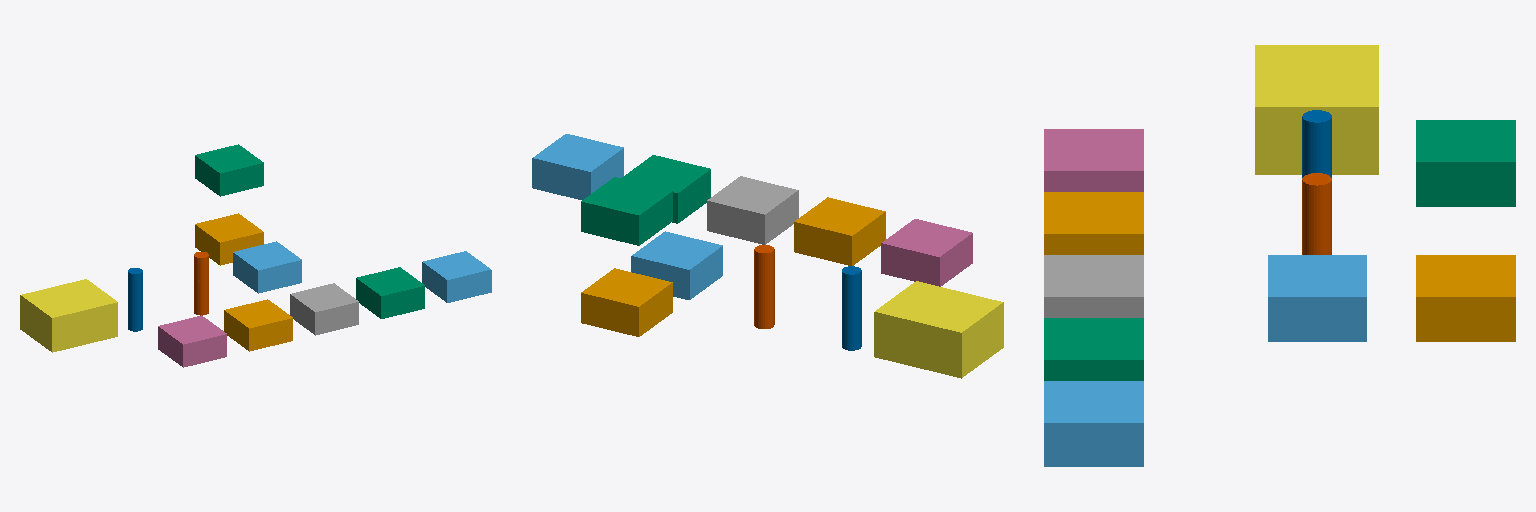
The robot description file, URDF, robot "speed_change_mechanism":
<?xml version="1.0" ?>
<robot name="speed_change_mechanism">
  <link name="first_mounting_means">
    <visual>
      <geometry>
        <box size="0.04 0.04 0.02"/>
      </geometry>
    </visual>
  </link>
  <link name="first_planet_pinion">
    <visual>
      <geometry>
        <box size="0.04 0.04 0.02"/>
      </geometry>
    </visual>
  </link>
  <link name="first_ring_gear">
    <visual>
      <geometry>
        <box size="0.04 0.04 0.02"/>
      </geometry>
    </visual>
  </link>
  <link name="housing">
    <visual>
      <geometry>
        <box size="0.06 0.05 0.03"/>
      </geometry>
    </visual>
  </link>
  <link name="input_shaft">
    <visual>
      <geometry>
        <cylinder radius="0.006" length="0.05"/>
      </geometry>
    </visual>
  </link>
  <link name="output_shaft">
    <visual>
      <geometry>
        <cylinder radius="0.006" length="0.05"/>
      </geometry>
    </visual>
  </link>
  <link name="planet_carrier_means">
    <visual>
      <geometry>
        <box size="0.04 0.04 0.02"/>
      </geometry>
    </visual>
  </link>
  <link name="second_mounting_means">
    <visual>
      <geometry>
        <box size="0.04 0.04 0.02"/>
      </geometry>
    </visual>
  </link>
  <link name="second_planet_pinion">
    <visual>
      <geometry>
        <box size="0.04 0.04 0.02"/>
      </geometry>
    </visual>
  </link>
  <link name="second_ring_gear">
    <visual>
      <geometry>
        <box size="0.04 0.04 0.02"/>
      </geometry>
    </visual>
  </link>
  <link name="third_planet_pinion">
    <visual>
      <geometry>
        <box size="0.04 0.04 0.02"/>
      </geometry>
    </visual>
  </link>
  <joint name="_attach_first_planet_pinion_to_first_mounting_means" type="fixed">
    <parent link="first_planet_pinion"/>
    <child link="first_mounting_means"/>
    <origin xyz="-0.1800 0.0000 0.0000" rpy="0 0 0"/>
  </joint>
  <joint name="_attach_first_planet_pinion_to_first_ring_gear" type="fixed">
    <parent link="first_planet_pinion"/>
    <child link="first_ring_gear"/>
    <origin xyz="-0.0600 0.0000 0.0000" rpy="0 0 0"/>
  </joint>
  <joint name="_attach_housing_to_input_shaft" type="fixed">
    <parent link="housing"/>
    <child link="input_shaft"/>
    <origin xyz="0.0600 0.0000 0.0000" rpy="0 0 0"/>
  </joint>
  <joint name="_attach_housing_to_output_shaft" type="fixed">
    <parent link="housing"/>
    <child link="output_shaft"/>
    <origin xyz="0.1200 0.0000 0.0000" rpy="0 0 0"/>
  </joint>
  <joint name="_attach_housing_to_second_ring_gear" type="fixed">
    <parent link="housing"/>
    <child link="second_ring_gear"/>
    <origin xyz="0.1800 0.0000 0.0000" rpy="0 0 0"/>
  </joint>
  <joint name="_attach_second_planet_pinion_to_second_mounting_means" type="fixed">
    <parent link="second_planet_pinion"/>
    <child link="second_mounting_means"/>
    <origin xyz="0.0000 -0.1500 0.0000" rpy="0 0 0"/>
  </joint>
  <joint name="_attach_second_planet_pinion_to_third_planet_pinion" type="fixed">
    <parent link="second_planet_pinion"/>
    <child link="third_planet_pinion"/>
    <origin xyz="0.0000 0.0000 0.0600" rpy="0 0 0"/>
  </joint>
  <joint name="_attach_second_ring_gear_to_second_planet_pinion" type="fixed">
    <parent link="second_ring_gear"/>
    <child link="second_planet_pinion"/>
    <origin xyz="0.0000 0.0600 0.0000" rpy="0 0 0"/>
  </joint>
  <joint name="_attach_third_planet_pinion_to_first_planet_pinion" type="fixed">
    <parent link="third_planet_pinion"/>
    <child link="first_planet_pinion"/>
    <origin xyz="0.1200 -0.1500 -0.0600" rpy="0 0 0"/>
  </joint>
  <joint name="_attach_third_planet_pinion_to_planet_carrier_means" type="fixed">
    <parent link="third_planet_pinion"/>
    <child link="planet_carrier_means"/>
    <origin xyz="-0.1200 -0.1500 -0.0600" rpy="0 0 0"/>
  </joint>
</robot>

--- What the picture shows (computed from the rendered views, not written in the file) ---
The picture shows the robot from 3 angles, left to right: view 1: azimuth 30°, elevation 25°; view 2: azimuth 150°, elevation 25°; view 3: azimuth 270°, elevation 25°; orthographic projection.
Robot: speed_change_mechanism — 11 links, 10 joints (10 fixed); root link housing; default pose: all joints at 0.
Visible links, largest first — view 1: housing, first_planet_pinion, planet_carrier_means, third_planet_pinion, second_ring_gear, first_mounting_means, first_ring_gear, second_mounting_means, second_planet_pinion, input_shaft, output_shaft; view 2: housing, second_planet_pinion, third_planet_pinion, second_mounting_means, first_mounting_means, planet_carrier_means, first_planet_pinion, second_ring_gear, first_ring_gear, output_shaft, input_shaft; view 3: housing, second_planet_pinion, third_planet_pinion, second_ring_gear, first_planet_pinion, first_mounting_means, first_ring_gear, planet_carrier_means, second_mounting_means, output_shaft, input_shaft.
Link boxes in pixels (x1,y1,x2,y2): housing: (20, 279, 117, 352); first_planet_pinion: (422, 251, 491, 302); planet_carrier_means: (158, 315, 226, 367); third_planet_pinion: (195, 144, 263, 196); second_ring_gear: (233, 241, 301, 293); first_mounting_means: (224, 299, 292, 351); first_ring_gear: (356, 267, 424, 318); second_mounting_means: (290, 283, 358, 335); second_planet_pinion: (195, 213, 263, 265); input_shaft: (128, 268, 142, 331); output_shaft: (194, 252, 208, 315); housing: (874, 281, 1003, 378); second_planet_pinion: (581, 268, 672, 336); third_planet_pinion: (581, 177, 672, 245); second_mounting_means: (707, 176, 798, 244); first_mounting_means: (794, 197, 885, 265); planet_carrier_means: (881, 219, 972, 286); first_planet_pinion: (532, 134, 623, 199); second_ring_gear: (631, 231, 722, 299); first_ring_gear: (621, 155, 710, 223); output_shaft: (754, 245, 774, 328); input_shaft: (842, 266, 861, 350); housing: (1255, 45, 1378, 174); second_planet_pinion: (1416, 255, 1515, 341); third_planet_pinion: (1416, 120, 1515, 206); second_ring_gear: (1268, 255, 1366, 341); first_planet_pinion: (1044, 381, 1143, 466); first_mounting_means: (1044, 192, 1143, 254); first_ring_gear: (1044, 318, 1143, 380); planet_carrier_means: (1044, 129, 1143, 191); second_mounting_means: (1044, 255, 1143, 317); output_shaft: (1302, 173, 1331, 254); input_shaft: (1302, 110, 1331, 177).
Bounding box of the posed robot: 0.35 × 0.19 × 0.095 m (x, y, z).
Geometry: primitives only (box / cylinder / sphere), no mesh files.
